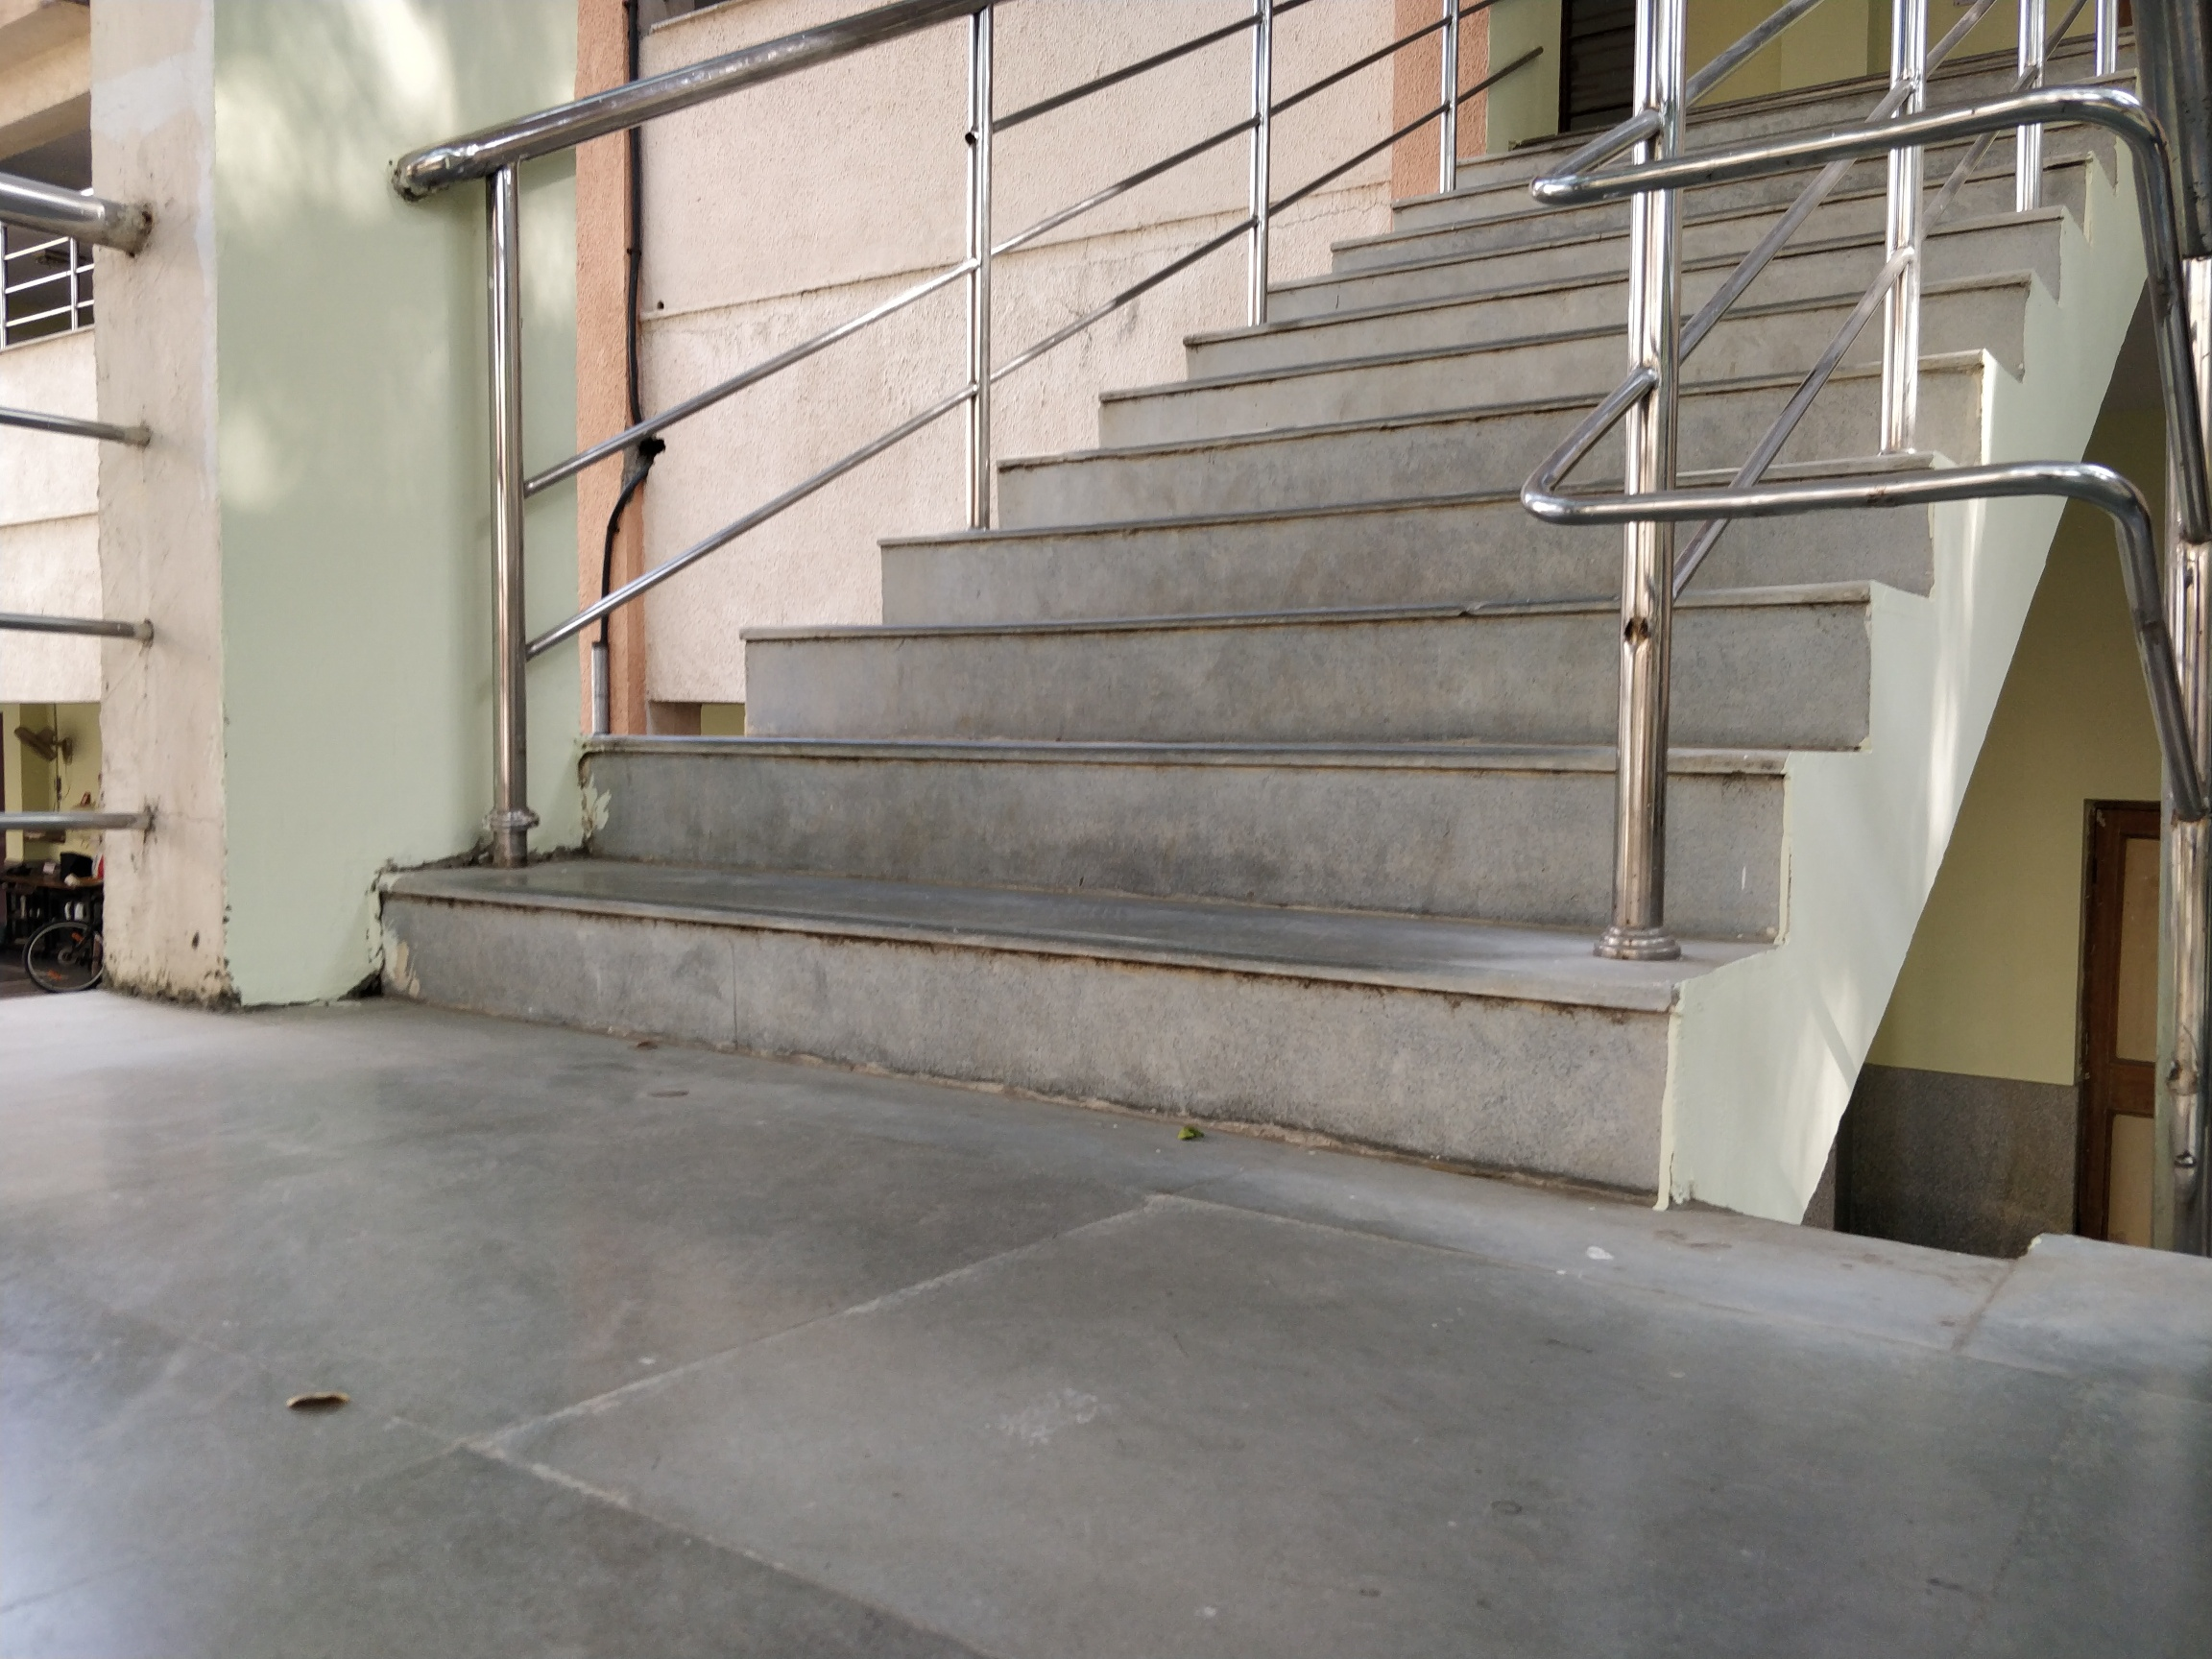stairs_up: (320, 26, 2158, 1155)
